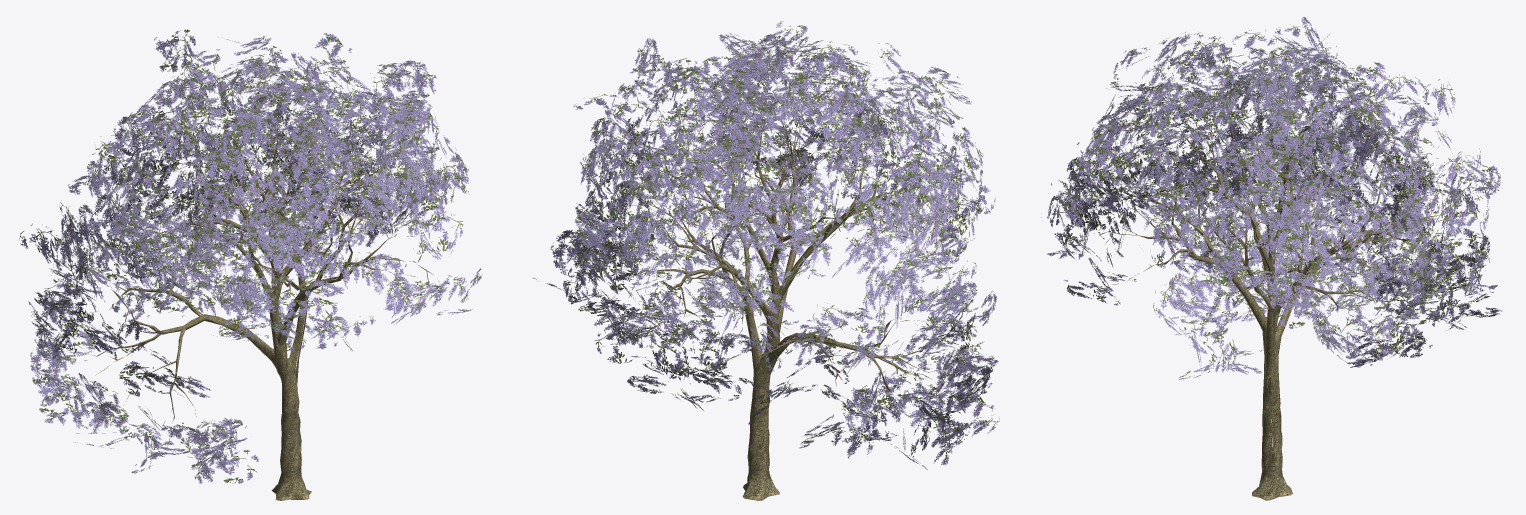
The model's file is jacaranda_bloom_b.glb.
3 renders of one model, left to right at view 1: azimuth 30°, elevation 25°; view 2: azimuth 150°, elevation 25°; view 3: azimuth 270°, elevation 25°, orthographic. The views are drawn at different scales.
Visible parts, largest first — view 1: jacaranda_bloom_b; view 2: jacaranda_bloom_b; view 3: jacaranda_bloom_b.
Boxes of the visible parts, x1=… form: jacaranda_bloom_b: x1=19, y1=29, x2=482, y2=500; jacaranda_bloom_b: x1=533, y1=21, x2=999, y2=500; jacaranda_bloom_b: x1=1041, y1=17, x2=1502, y2=500.
Bounding box in the file's own units: 11.46 × 11.61 × 11.23.
Materials: 2 (2 with a texture image).
